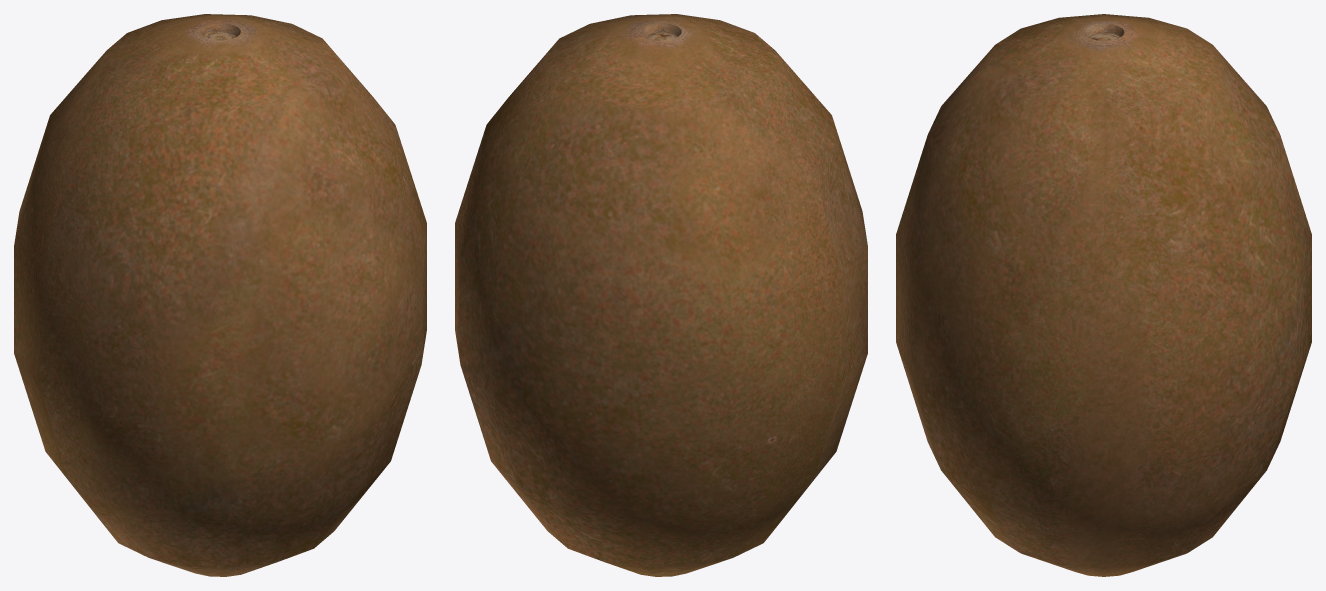
Rendered from kiwi.fbx.
3 views of the same model, side by side, from view 1: azimuth 30°, elevation 25°; view 2: azimuth 150°, elevation 25°; view 3: azimuth 270°, elevation 25° (orthographic).
Visible parts, largest first — view 1: kiwi; view 2: kiwi; view 3: kiwi.
Part boxes in pixels (bbox=[...]): kiwi: bbox=[14, 14, 426, 576]; kiwi: bbox=[455, 14, 867, 576]; kiwi: bbox=[896, 14, 1311, 576].
Bounding box in the file's own units: 0.1629 × 0.2302 × 0.1629.
